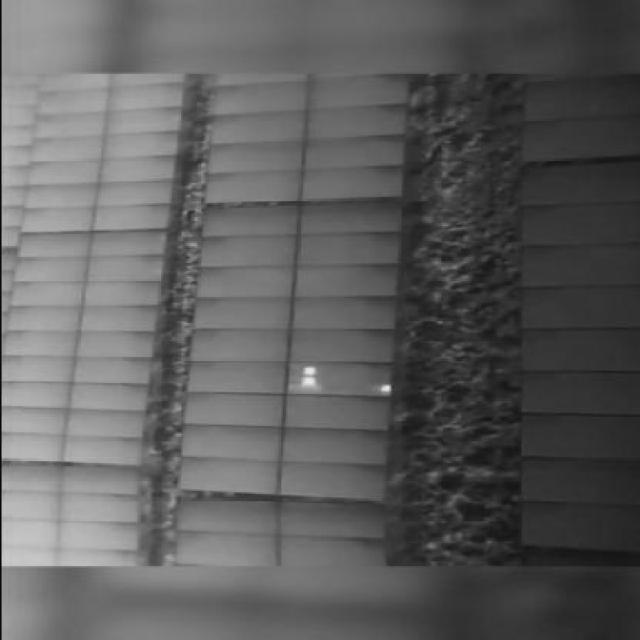hotspot: (298, 376, 314, 386), (378, 383, 390, 392), (301, 366, 314, 374)
